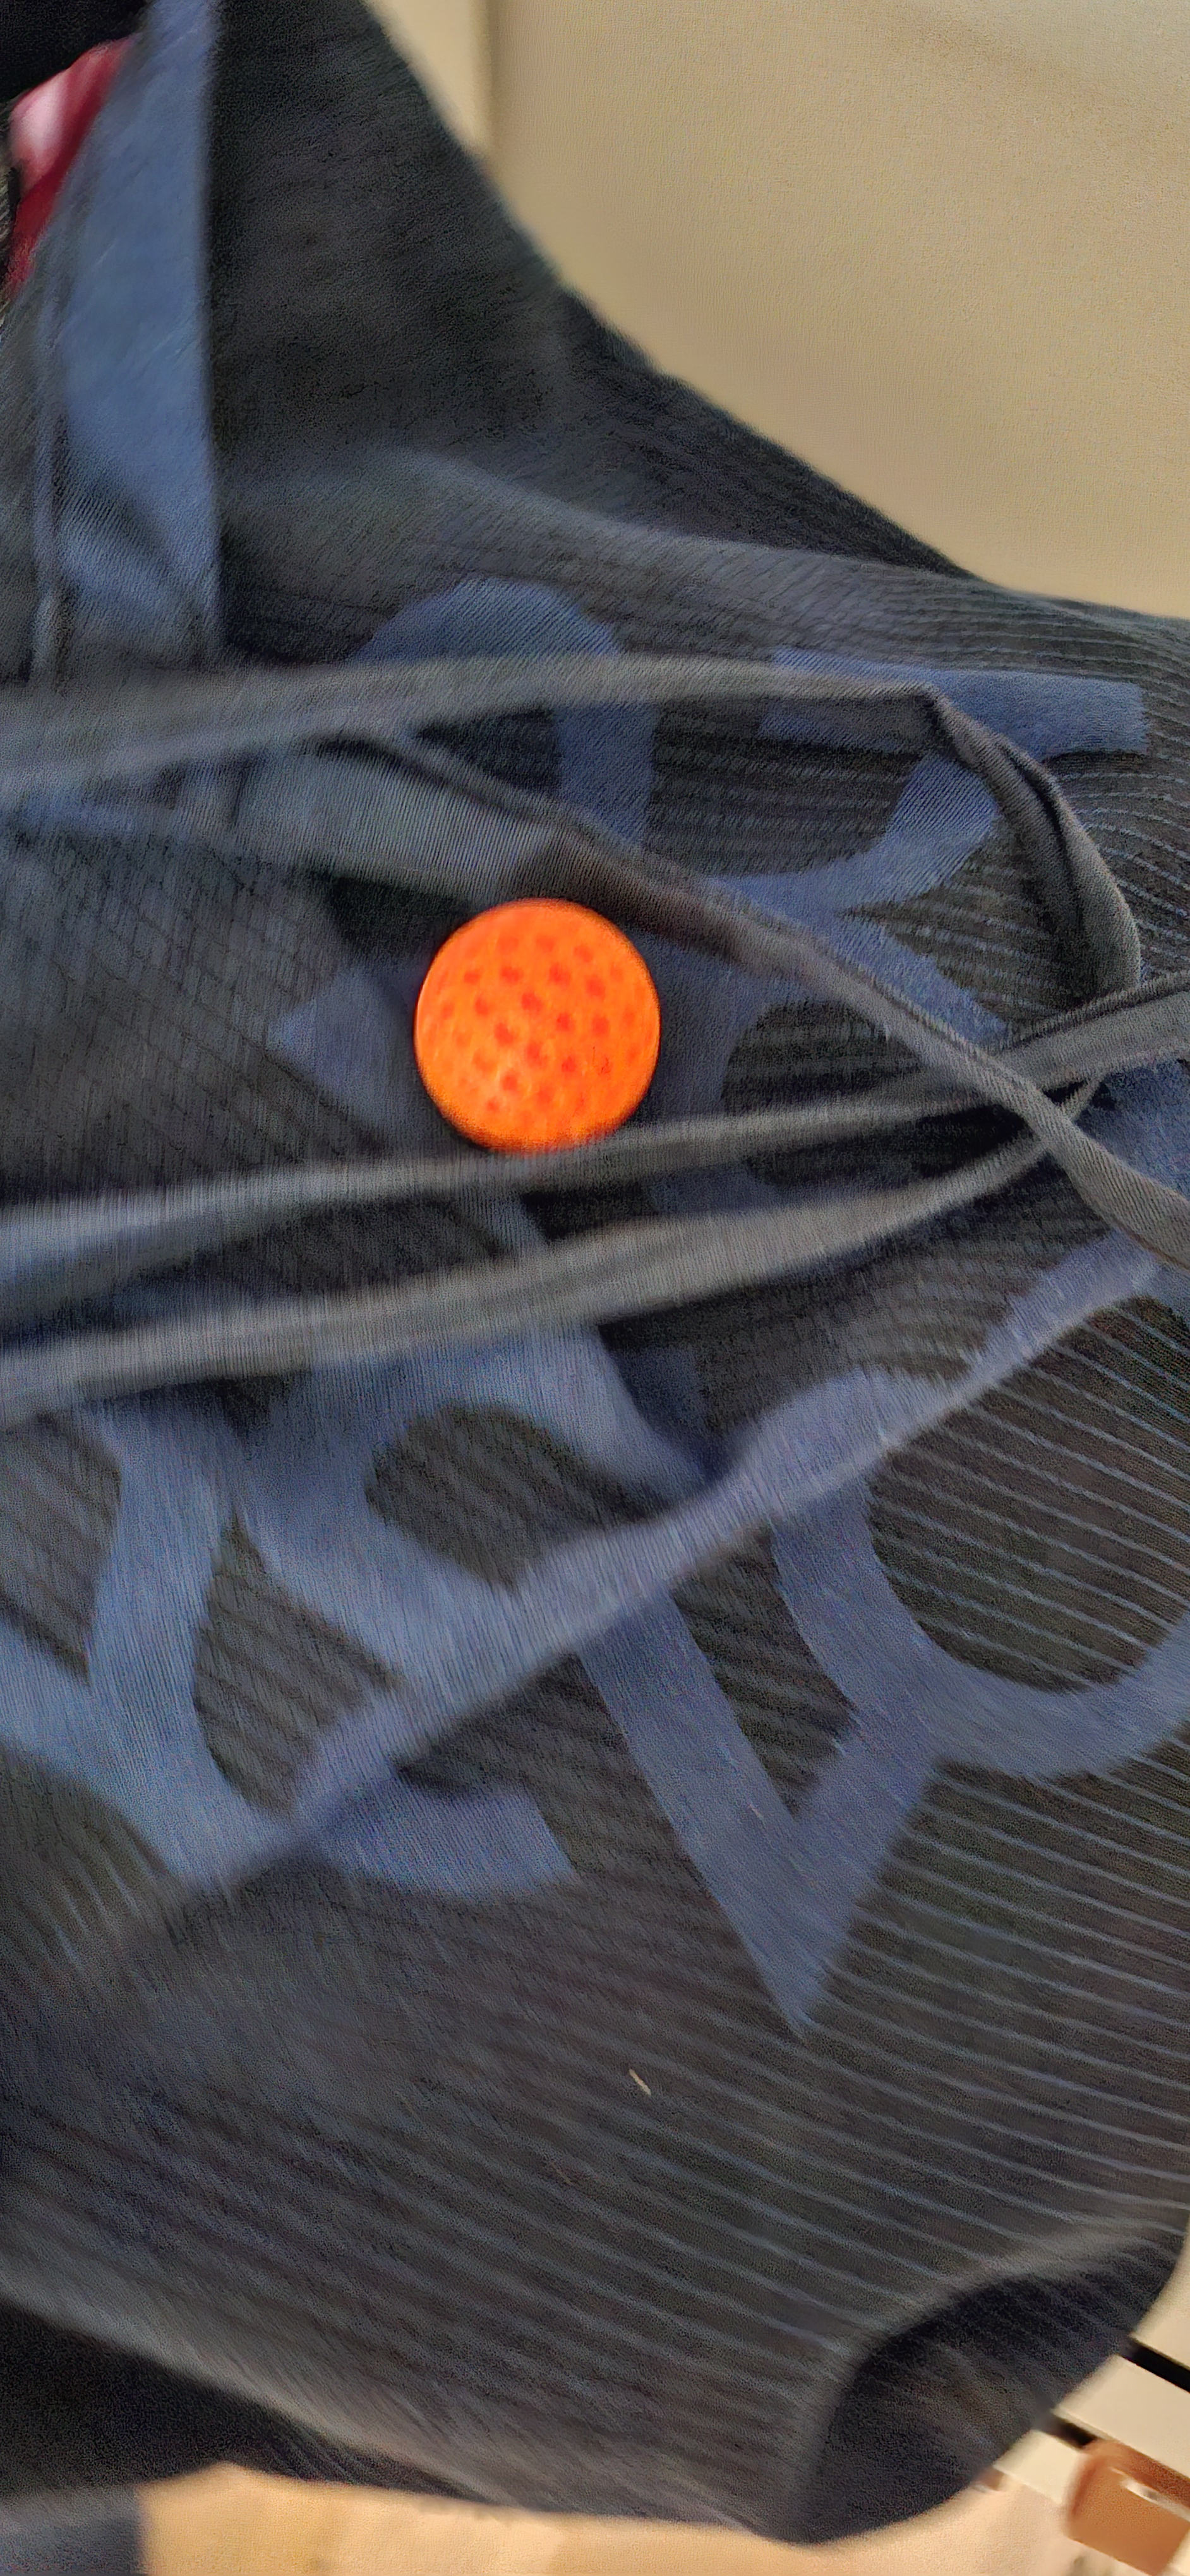ball: (409, 1129, 529, 1681)
